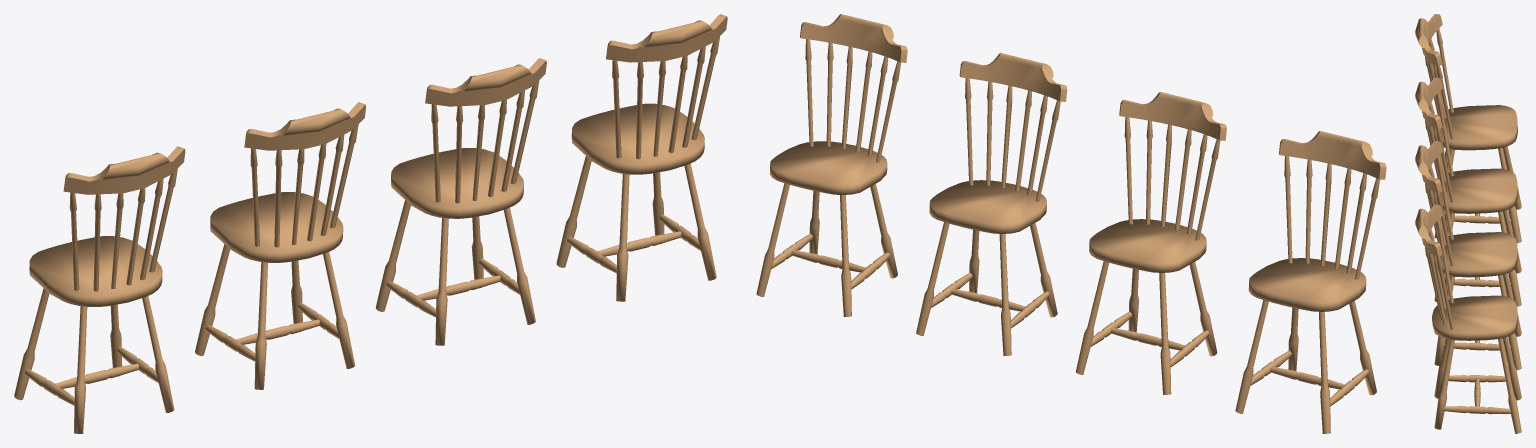
File: kursi.fbx
3 renders of one model, left to right at view 1: azimuth 30°, elevation 25°; view 2: azimuth 150°, elevation 25°; view 3: azimuth 270°, elevation 25°, orthographic. The views are drawn at different scales.
Parts seen in each view (by area): view 1: kursi; view 2: kursi; view 3: kursi.
Boxes of the visible parts, bbox=[...] form: kursi: bbox=[14, 14, 727, 433]; kursi: bbox=[756, 14, 1386, 433]; kursi: bbox=[1415, 14, 1521, 433].
Bounding box in the file's own units: 1473 × 588 × 285.
